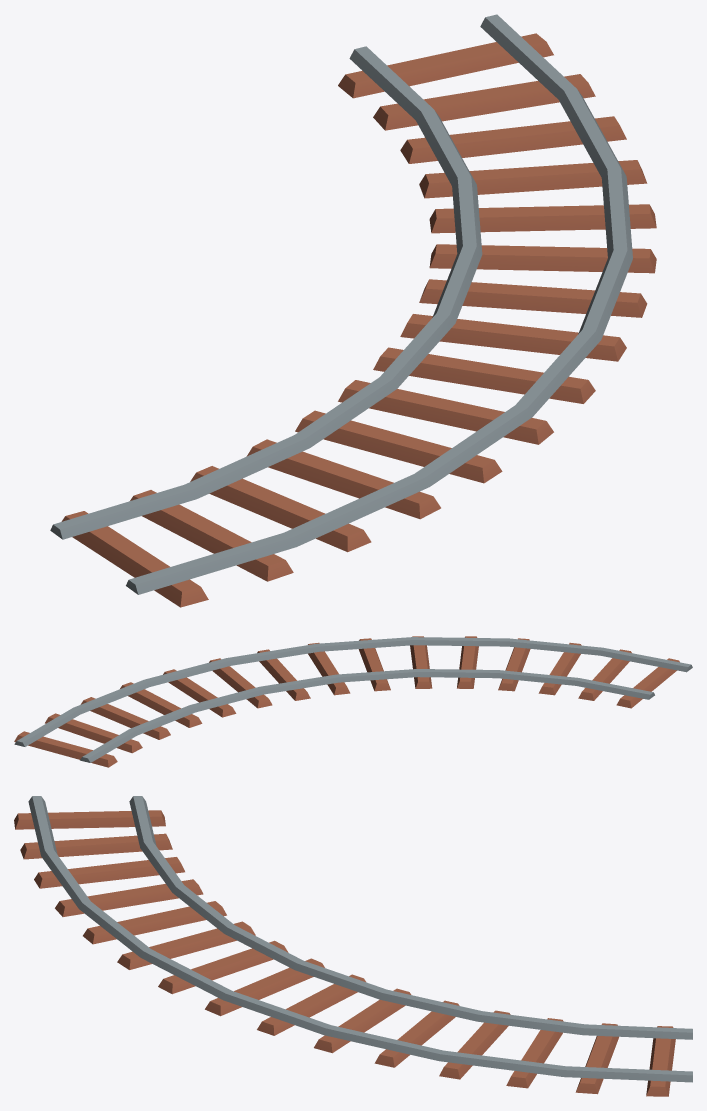
The model's file is tracks_curve.obj.
3 renders of one model, top to bottom at view 1: azimuth 30°, elevation 25°; view 2: azimuth 150°, elevation 25°; view 3: azimuth 270°, elevation 25°, orthographic. The views are drawn at different scales.
Visible parts, largest first — view 1: tracks_curve; view 2: tracks_curve; view 3: tracks_curve.
Part boxes in pixels (bbox=[...]): tracks_curve: bbox=[50, 14, 656, 607]; tracks_curve: bbox=[14, 636, 692, 767]; tracks_curve: bbox=[14, 796, 692, 1096].
Size of the model in its own units: 2.24 by 0.05 by 2.24.
Materials: 1 (1 with a texture image).
